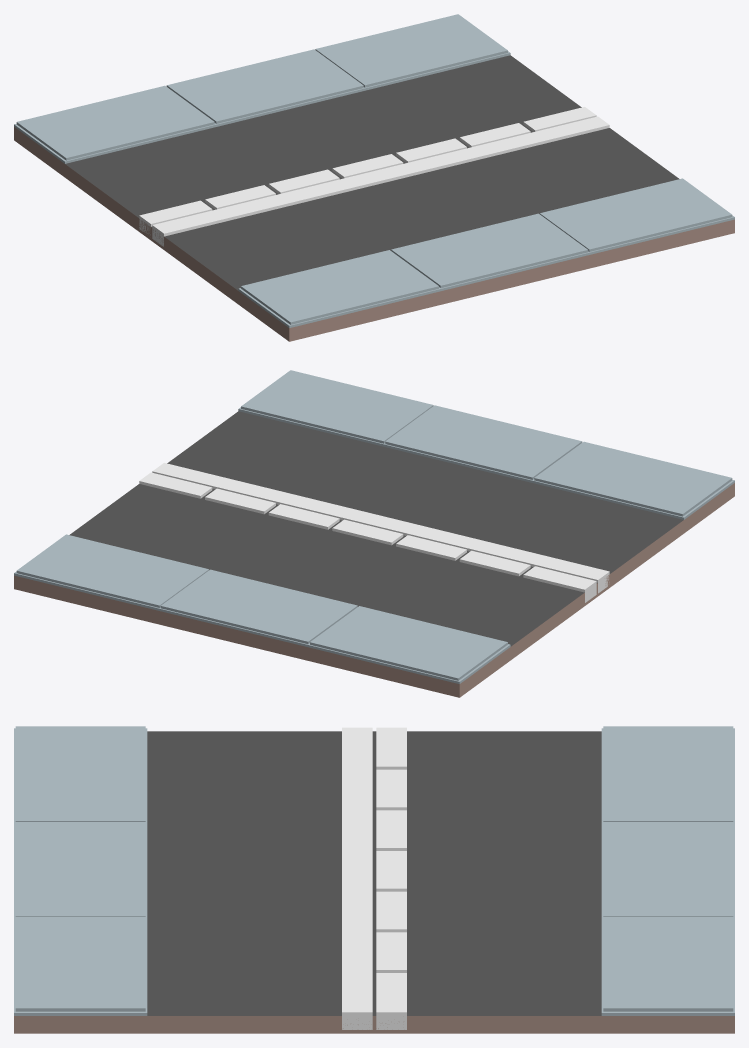
Rendered from Road_Straight_01.gltf.
3 views of the same model, one above another, from view 1: azimuth 30°, elevation 25°; view 2: azimuth 150°, elevation 25°; view 3: azimuth 270°, elevation 25° (orthographic). The views are drawn at different scales.
Visible parts, largest first — view 1: node-0; view 2: node-0; view 3: node-0.
Part boxes in pixels (<box>): node-0: <box>14,14,734,341</box>; node-0: <box>14,370,734,697</box>; node-0: <box>14,726,734,1033</box>.
Size of the model in its own units: 19 by 0.7515 by 20.33.
